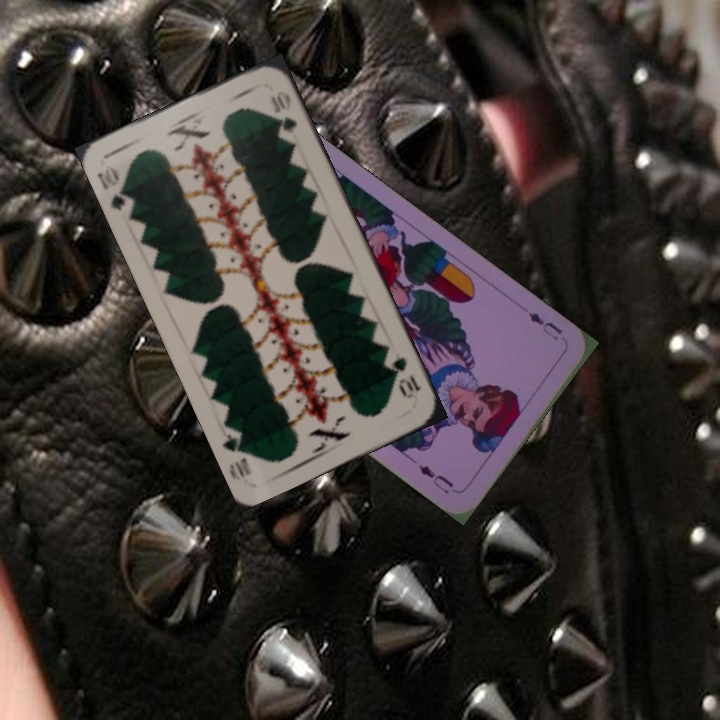EU: (524, 308, 566, 343)
G10: (93, 161, 137, 214), (385, 353, 425, 402)
